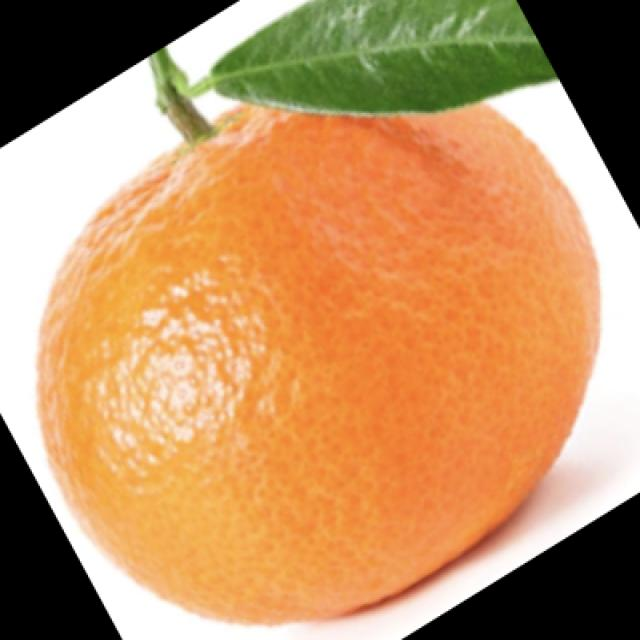matang: (42, 86, 598, 624)
